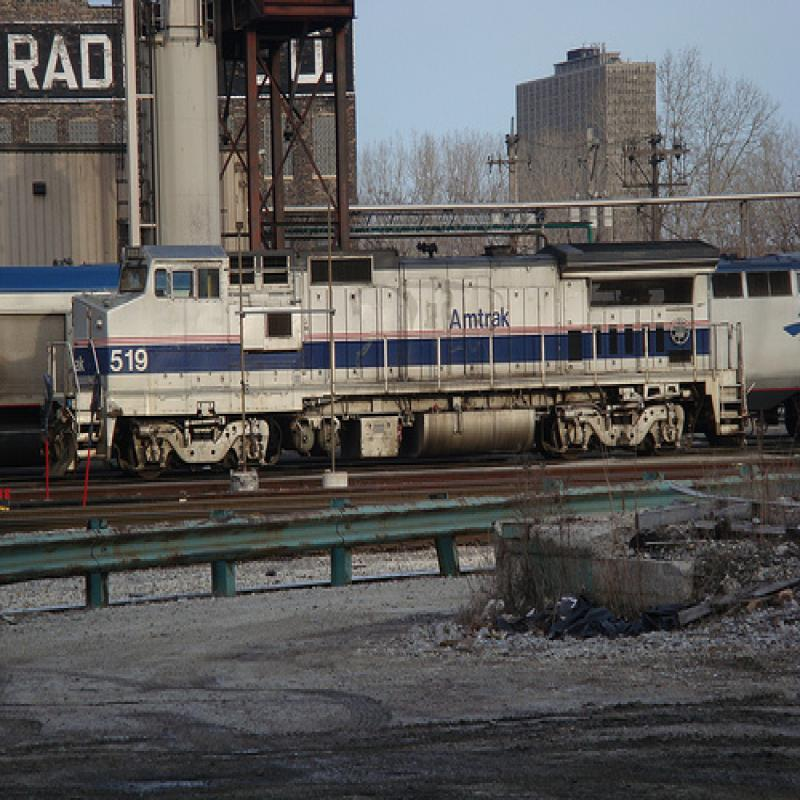train: (43, 238, 800, 485)
